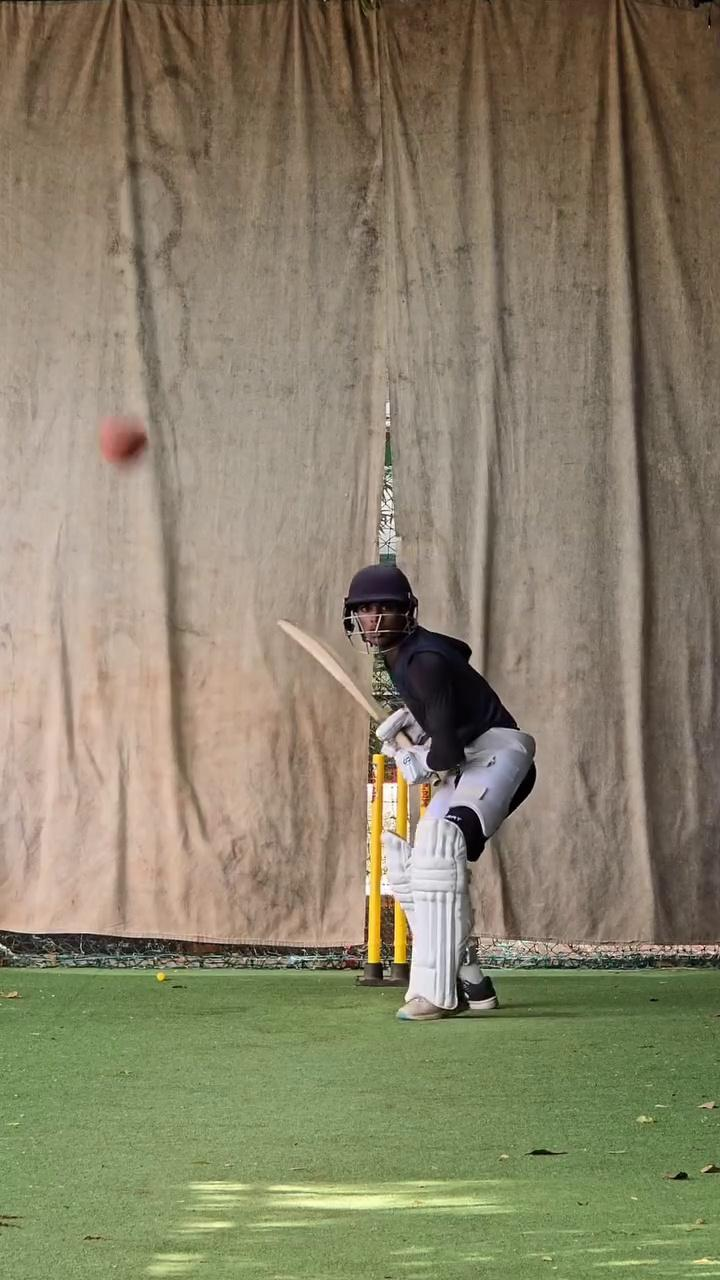bat: (268, 607, 395, 723)
